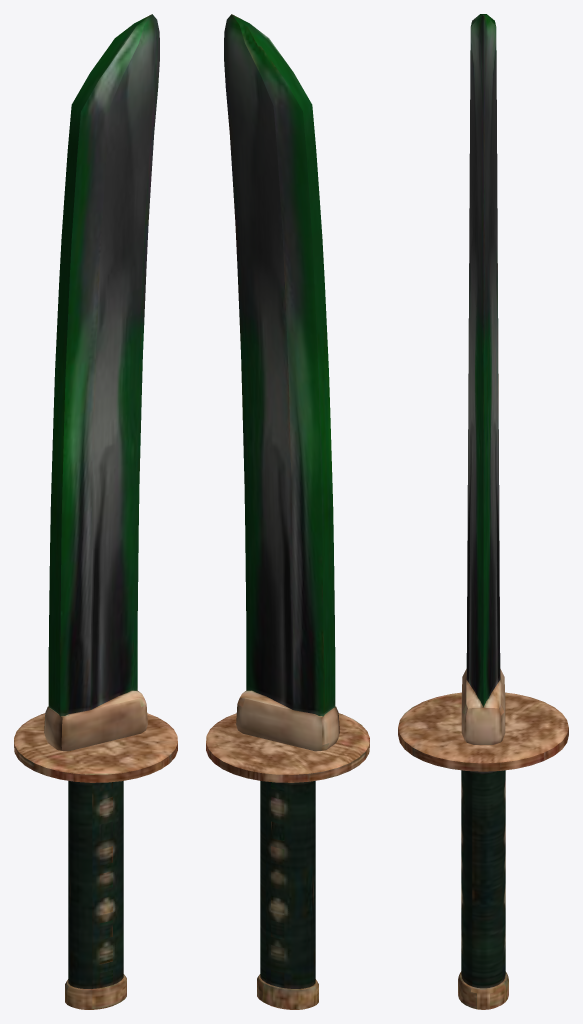
File: blade_weapon.glb
3 renders of one model, left to right at view 1: azimuth 30°, elevation 25°; view 2: azimuth 150°, elevation 25°; view 3: azimuth 270°, elevation 25°, orthographic. The views are drawn at different scales.
Size of the model in its own units: 0.3062 by 2 by 0.3062.
Materials: 1 (1 with a texture image).
